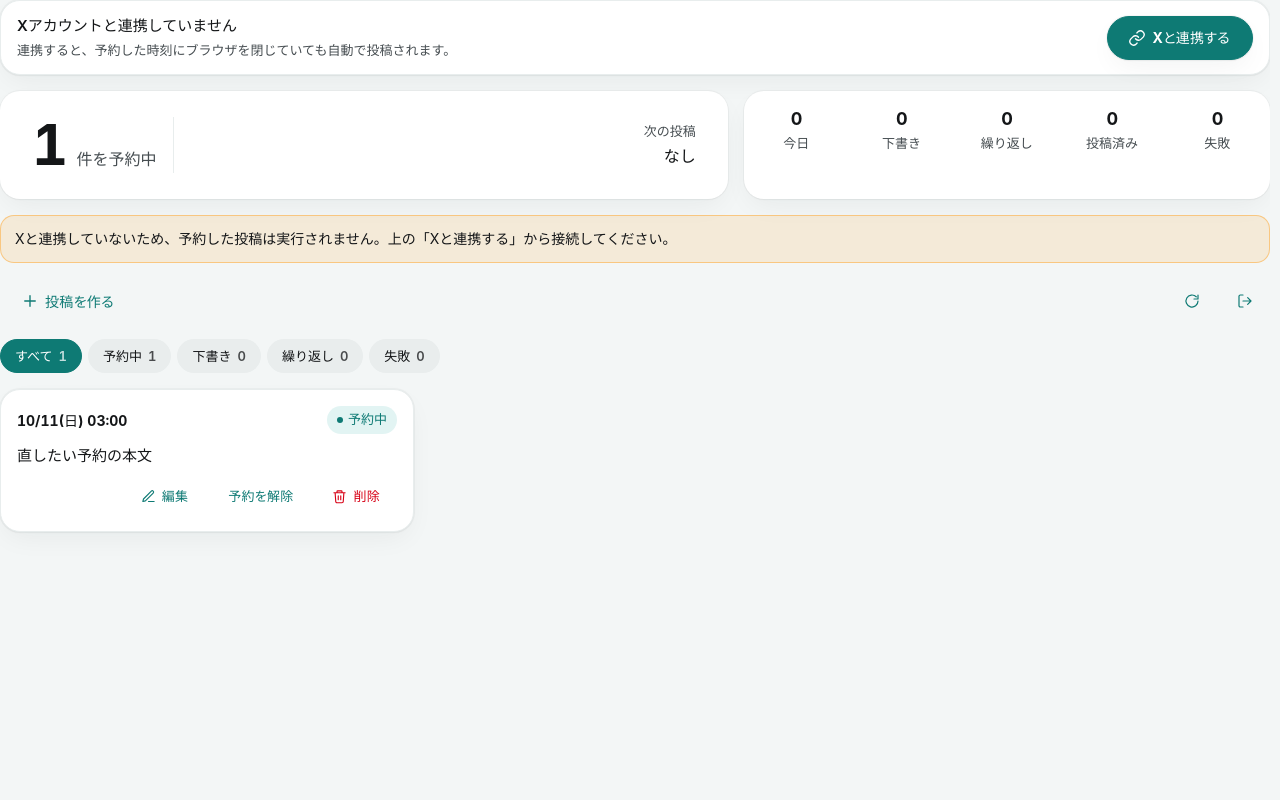
Test: ScheduleView: 投稿作成は ComposerSheet 一本 › 一覧の「編集」も同じシートで開く（見出しは「予約を編集」で、本文が入っている）
Click the button "編集".
click(165, 497)  # box [125, 479, 205, 515]
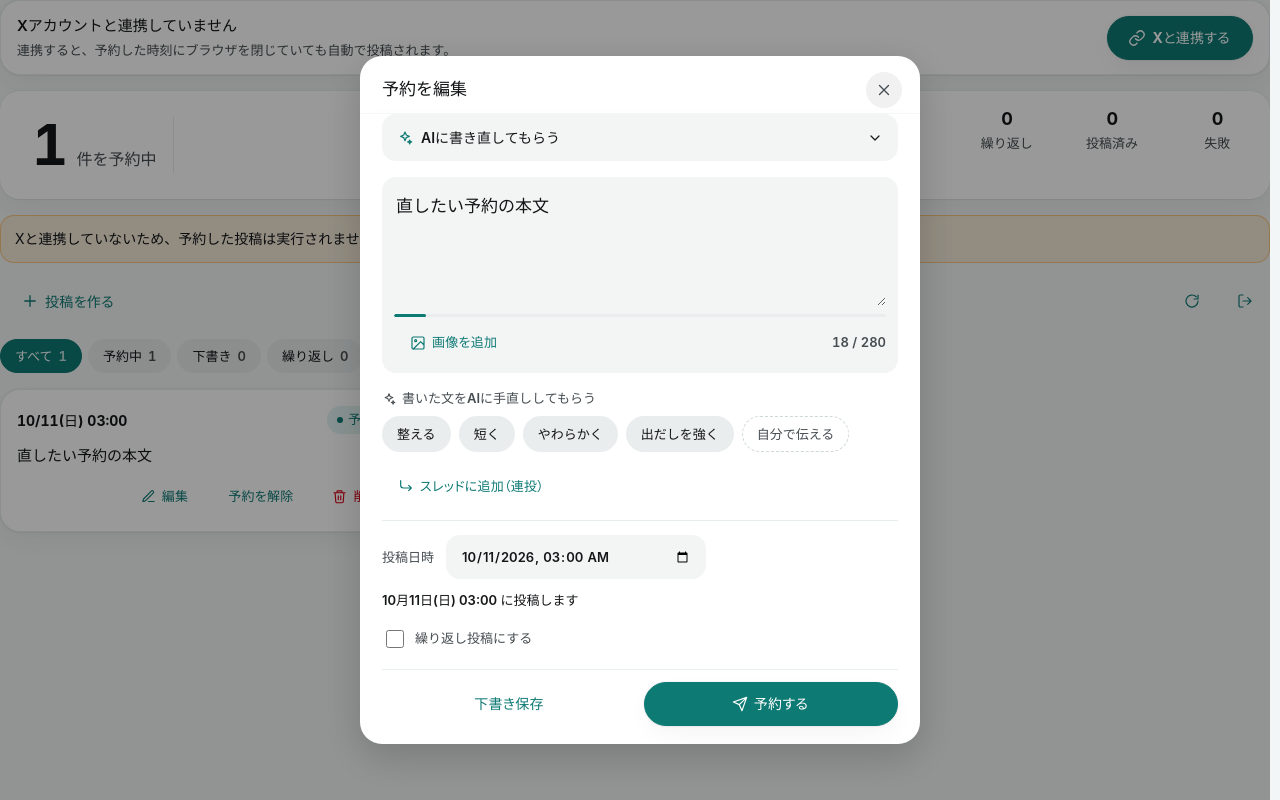
Now the dialog "予約を編集" is shown
Now the text box showing "直したい予約の本文" is shown, box [394, 189, 886, 306]
